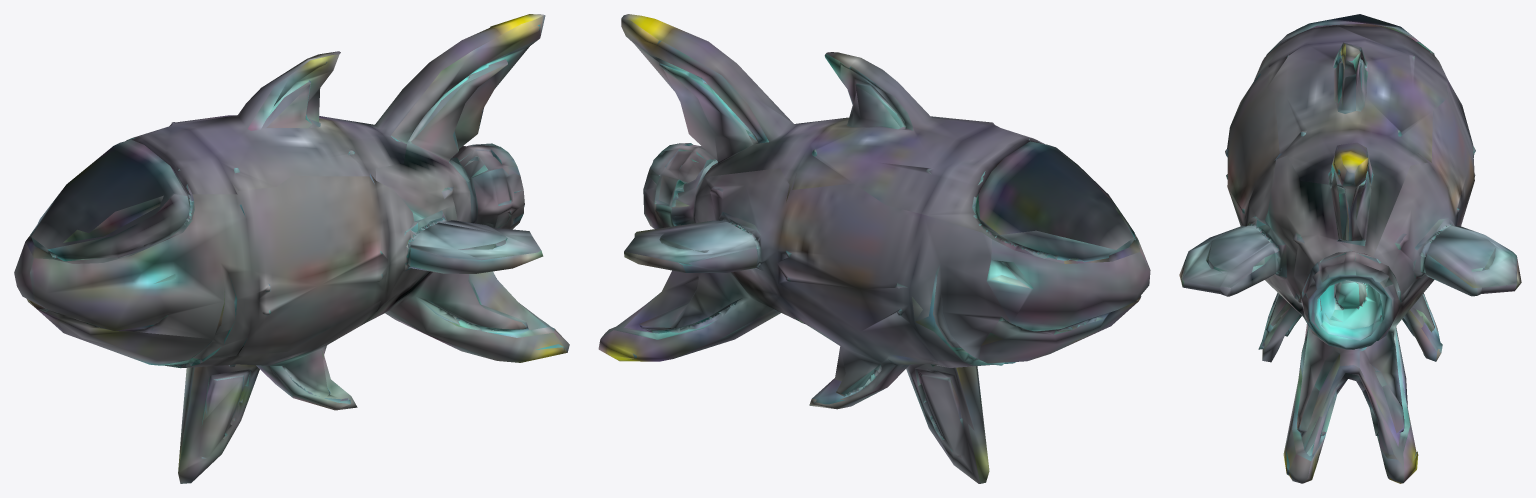
File: sardine-diet128.glb
The picture shows the model from 3 angles, left to right: view 1: azimuth 30°, elevation 25°; view 2: azimuth 150°, elevation 25°; view 3: azimuth 270°, elevation 25°; orthographic projection.
Visible parts, largest first — view 1: Mesh_0; view 2: Mesh_0; view 3: Mesh_0.
Boxes of the visible parts, x1,y1,x2,y2 form: Mesh_0: (14, 14, 569, 483); Mesh_0: (598, 14, 1150, 483); Mesh_0: (1179, 14, 1521, 483).
Size of the model in its own units: 1.89 by 1.36 by 1.08.
1 material, 1 textured.
